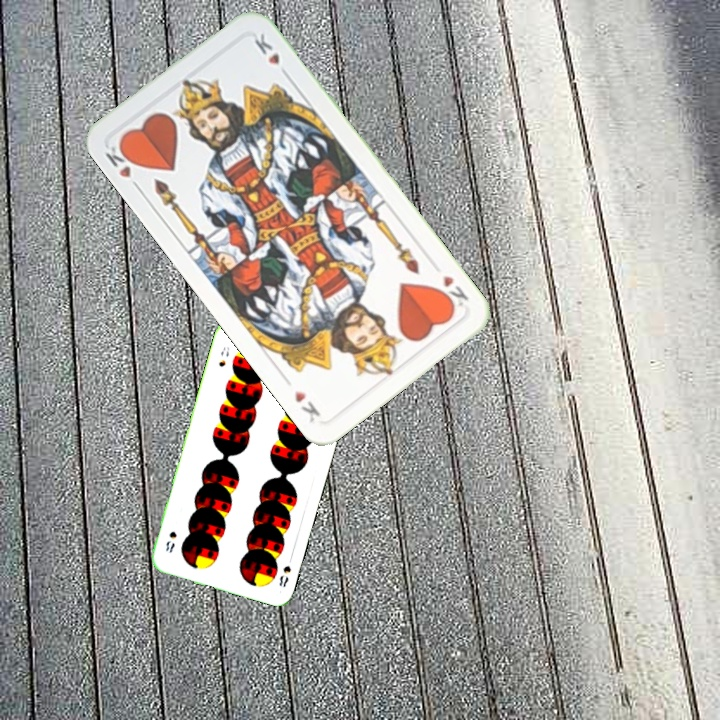HK: (101, 138, 144, 194), (434, 271, 472, 313)
S8: (275, 561, 294, 589), (215, 343, 232, 369)
